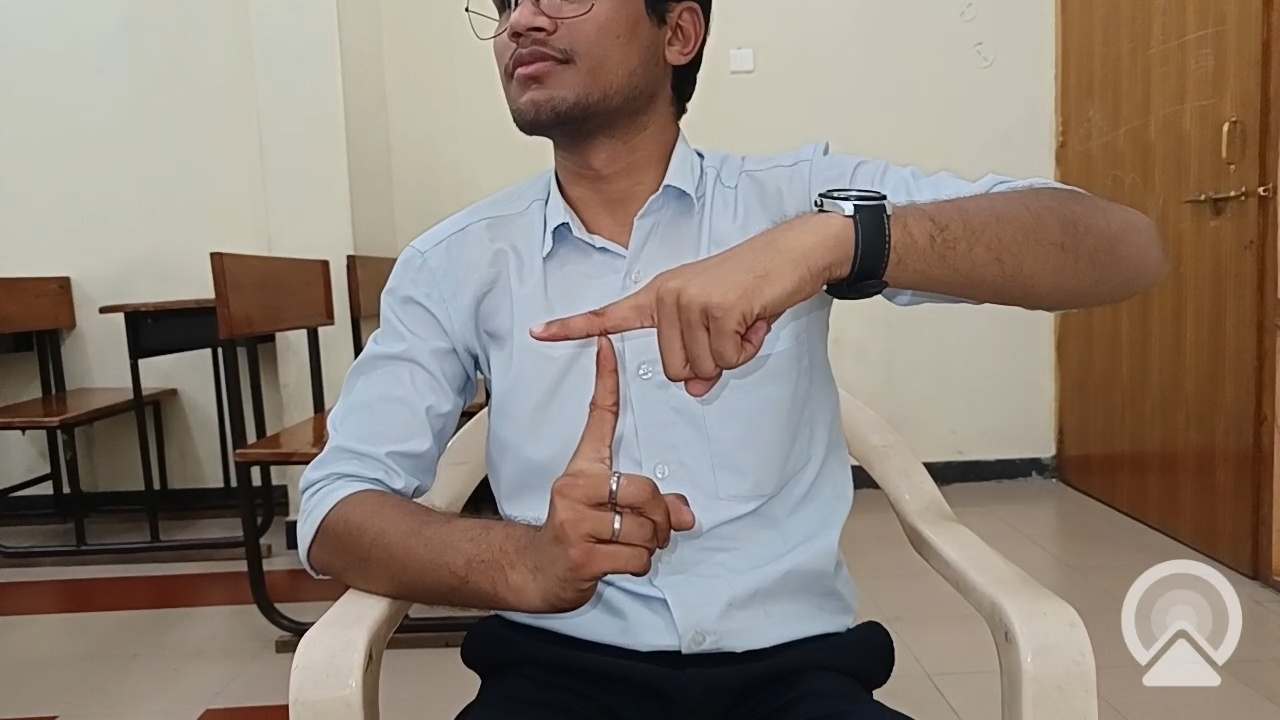T: (517, 153, 829, 622)
